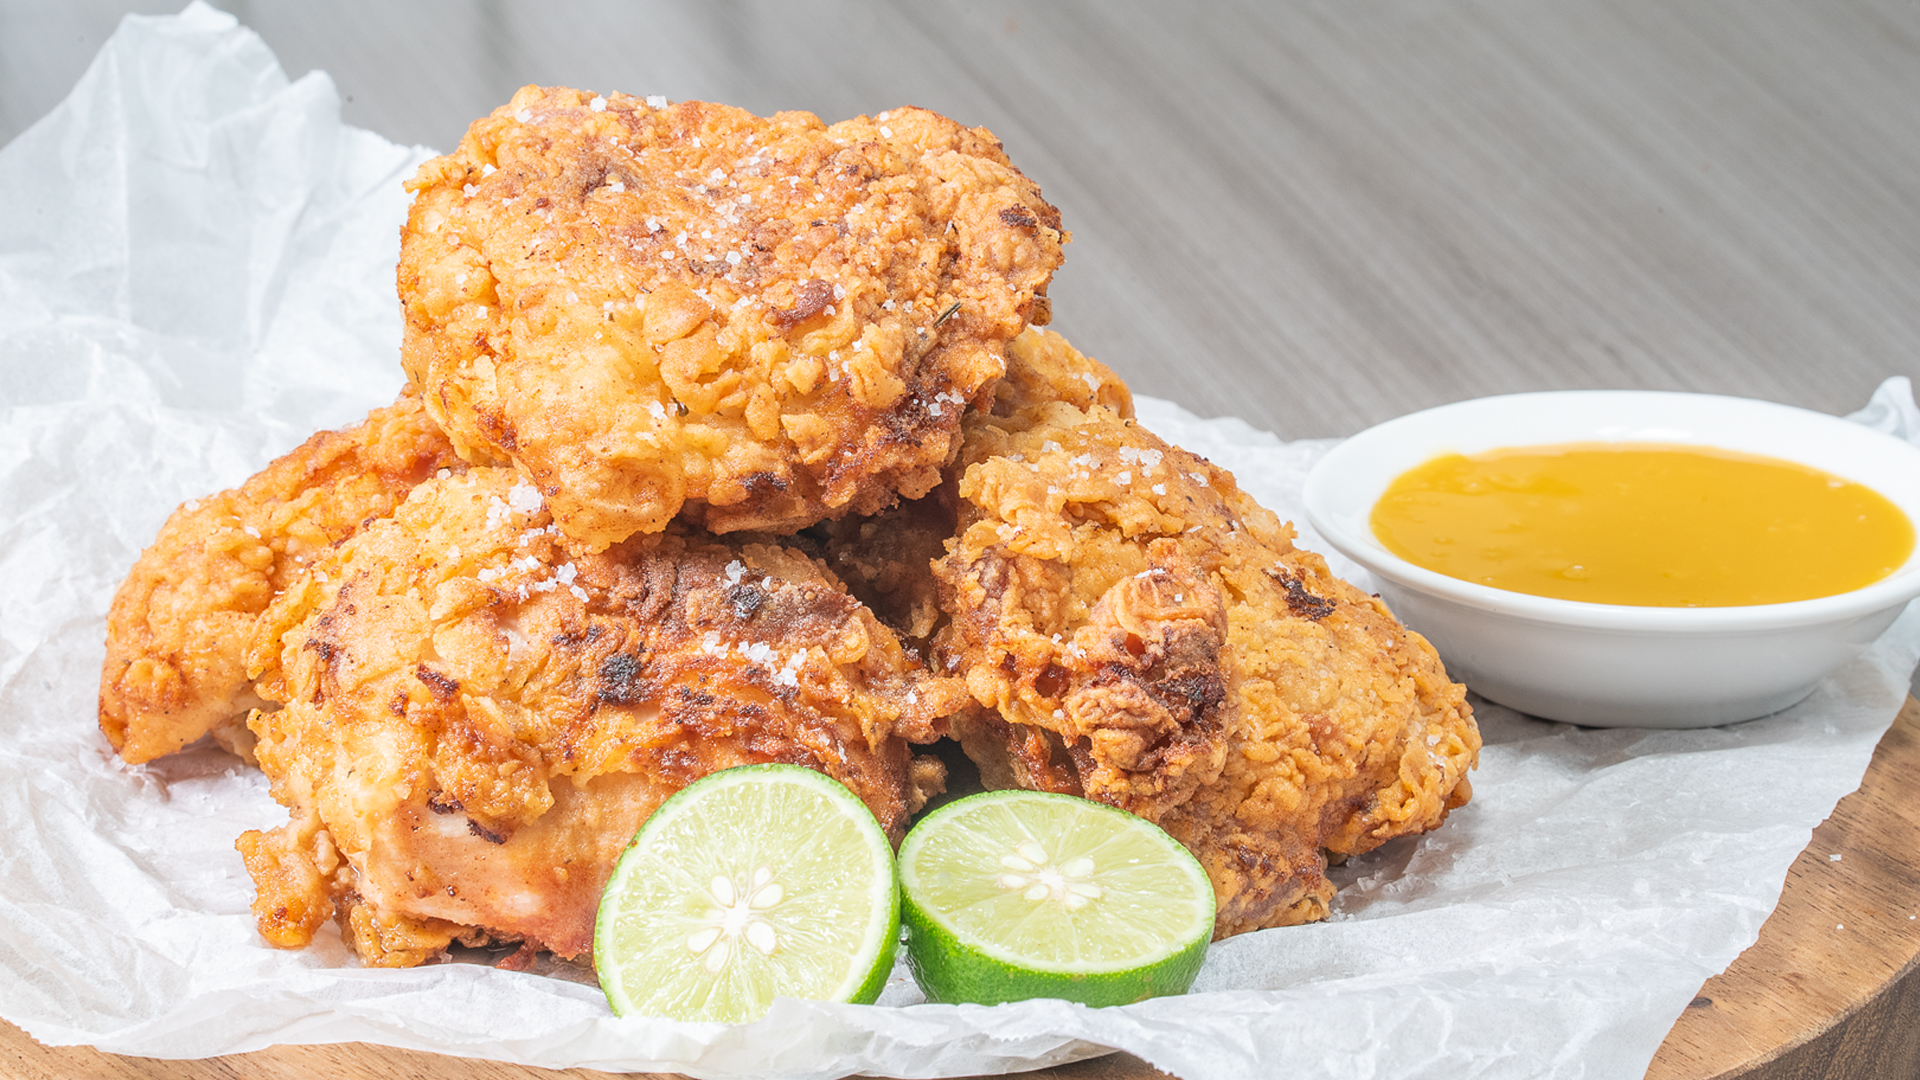Ayam: (73, 476, 949, 972), (324, 58, 1105, 529), (982, 342, 1538, 857)
